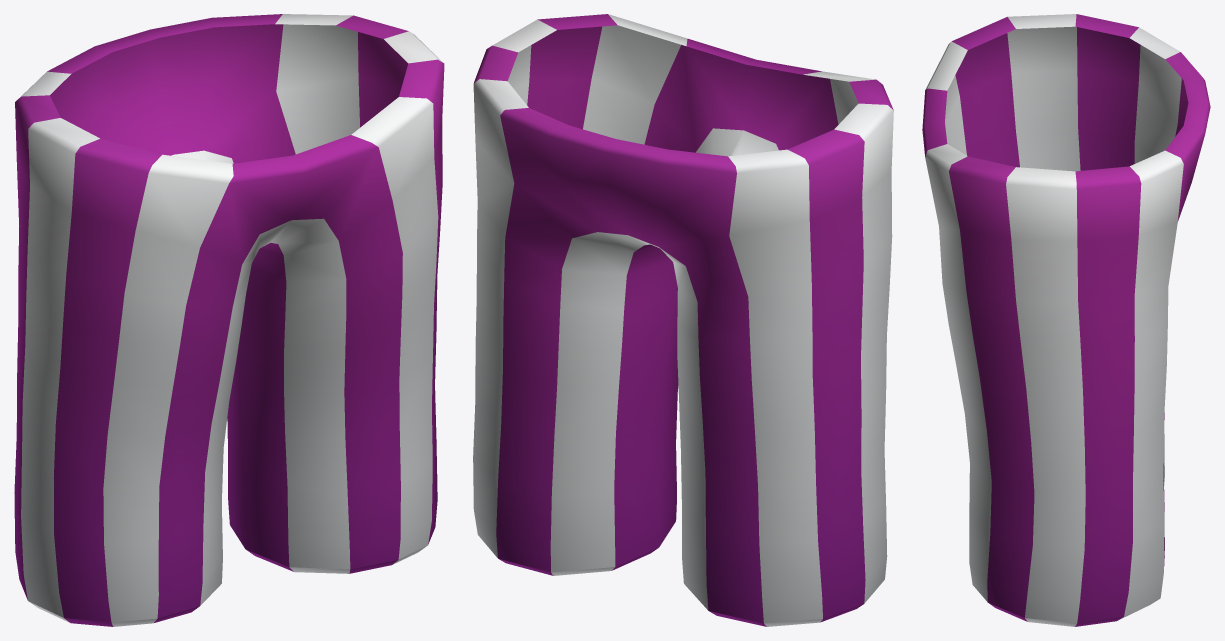
File: Pants_07.glb
3 views of the same model, side by side, from view 1: azimuth 30°, elevation 25°; view 2: azimuth 150°, elevation 25°; view 3: azimuth 270°, elevation 25° (orthographic). The views are drawn at different scales.
Visible parts, largest first — view 1: Pants_07; view 2: Pants_07; view 3: Pants_07.
Part boxes in pixels (left/top/right/bottom): Pants_07: left=14, top=14, right=444, bottom=626; Pants_07: left=473, top=14, right=893, bottom=626; Pants_07: left=922, top=14, right=1210, bottom=626.
Size of the model in its own units: 0.2477 by 0.2944 by 0.1716.
Materials: 1 (1 with a texture image).
